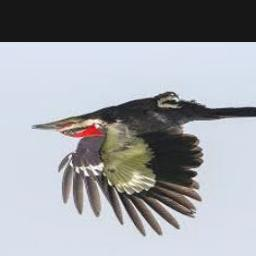Woodpecker: (29, 91, 256, 237)
